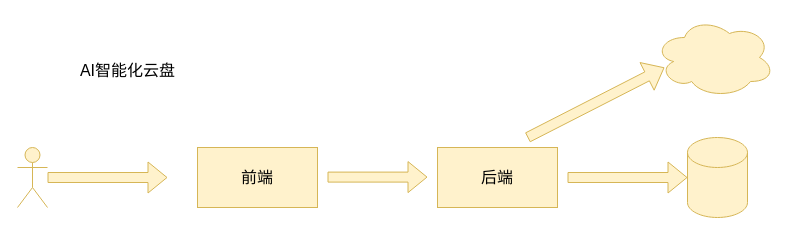
Image size: 792x235. Some labels were removed from this diagram. Each missing label, with the centre of its shape:
MinIO存储: (714,57)
数据库: (717,177)
